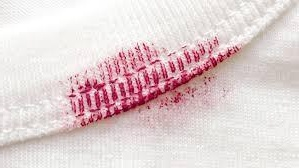lipstick: (65, 38, 241, 132)
